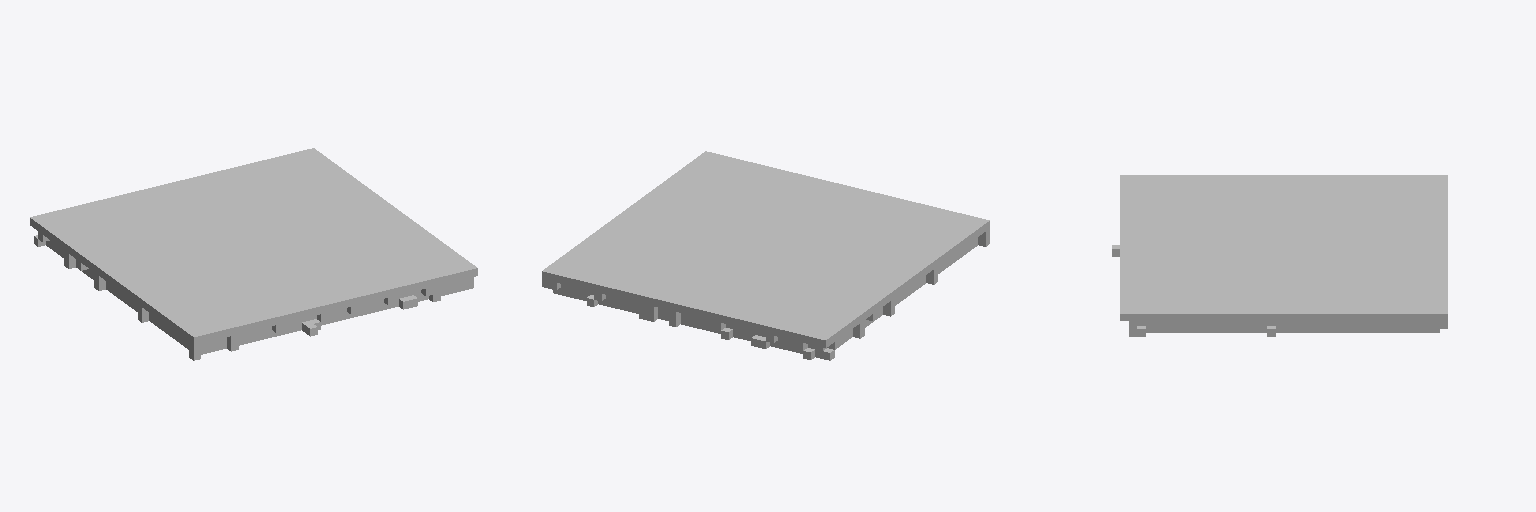
The model's file is Ground.obj.
3 views of the same model, side by side, from view 1: azimuth 30°, elevation 25°; view 2: azimuth 150°, elevation 25°; view 3: azimuth 270°, elevation 25° (orthographic).
Parts seen in each view (by area): view 1: object 1; view 2: object 1; view 3: object 1.
Part boxes in pixels (x1,y1,x2,y2): object 1: (30,148,477,360); object 1: (542,151,989,360); object 1: (1112,175,1447,336).
Bounding box in the file's own units: 3.8 × 0.3 × 3.9.